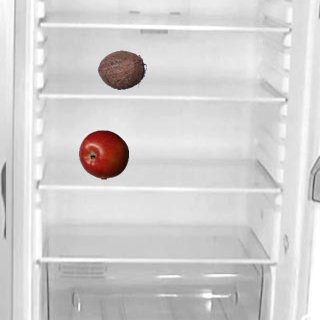Apple Braeburn: (78, 129, 128, 179)
Cocos: (96, 44, 146, 94)
